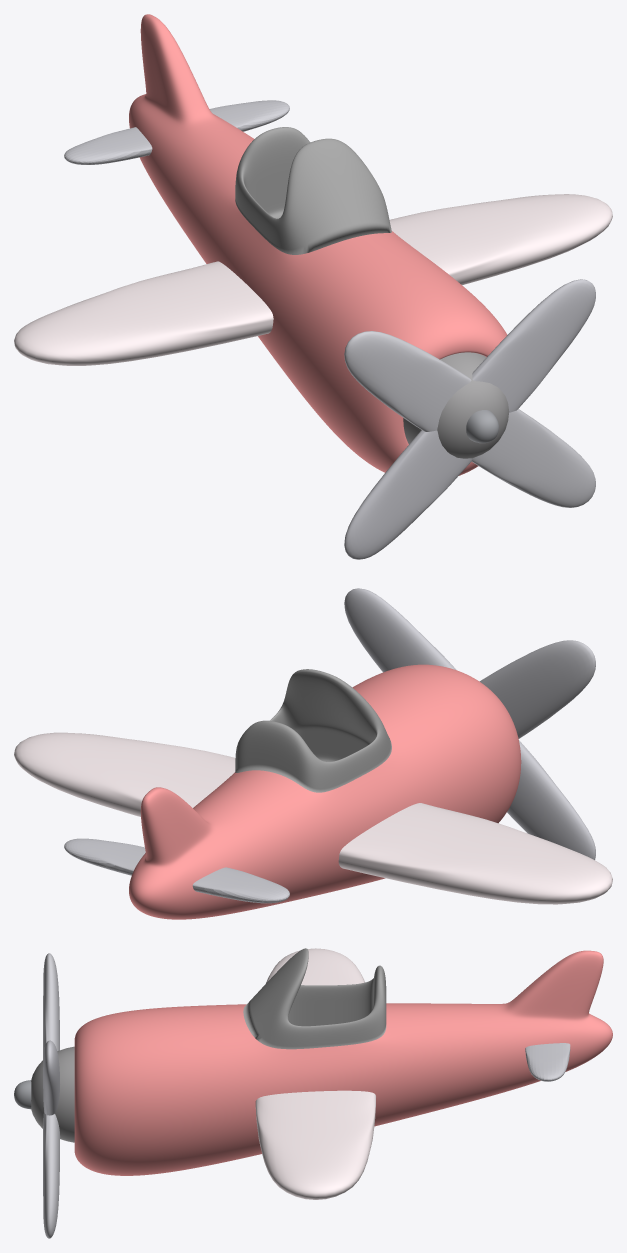
Rendered from asset.glb.
3 renders of one model, top to bottom at view 1: azimuth 30°, elevation 25°; view 2: azimuth 150°, elevation 25°; view 3: azimuth 270°, elevation 25°, orthographic. The views are drawn at different scales.
Parts seen in each view (by area): view 1: Cube, 立方体, 立方体.005, 立方体.004, 立方体.002, 立方体.001, 立方体.003; view 2: Cube, 立方体, 立方体.005, 立方体.004, 立方体.001; view 3: Cube, 立方体, 立方体.004, 立方体.002, 立方体.001, 立方体.005, 立方体.003.
Boxes of the visible parts, box(x1,y1,x2,y2) form: Cube: box(129, 14, 507, 475); 立方体: box(14, 194, 612, 365); 立方体.005: box(344, 279, 595, 559); 立方体.004: box(344, 331, 595, 507); 立方体.002: box(403, 352, 509, 458); 立方体.001: box(64, 100, 289, 164); 立方体.003: box(466, 410, 498, 443); Cube: box(129, 664, 521, 919); 立方体: box(14, 732, 612, 904); 立方体.005: box(344, 588, 595, 859); 立方体.004: box(479, 640, 595, 738); 立方体.001: box(64, 838, 289, 903); Cube: box(74, 948, 612, 1175); 立方体: box(255, 948, 375, 1199); 立方体.004: box(43, 953, 60, 1238); 立方体.002: box(31, 1046, 74, 1142); 立方体.001: box(525, 1043, 570, 1081); 立方体.005: box(43, 1040, 59, 1115); 立方体.003: box(14, 1080, 31, 1109).
Size of the model in its own units: 5.73 by 2.64 by 5.94.
